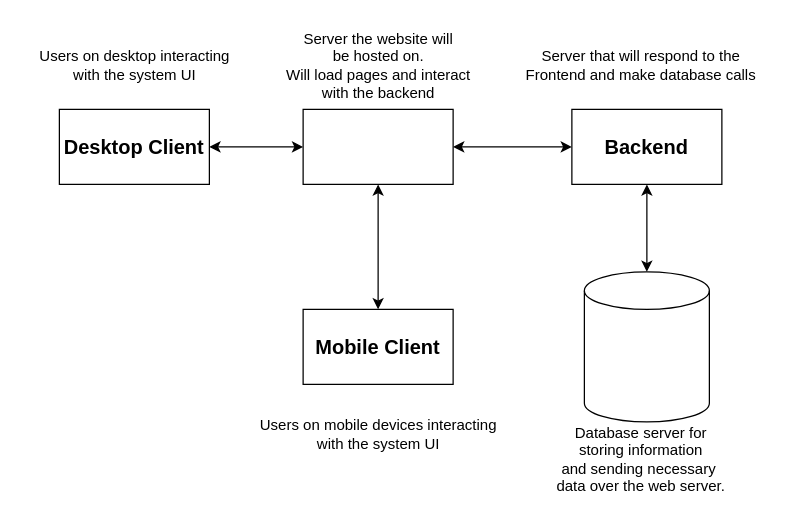
Image size: 793x524. Some labels were removed from this diagram. The shapes that lost their labels are listed below. From the top down, each one's centre as x and y in pixels, then its label:
At point (377, 146): "Frontend".
At point (646, 346): "Database Server".
